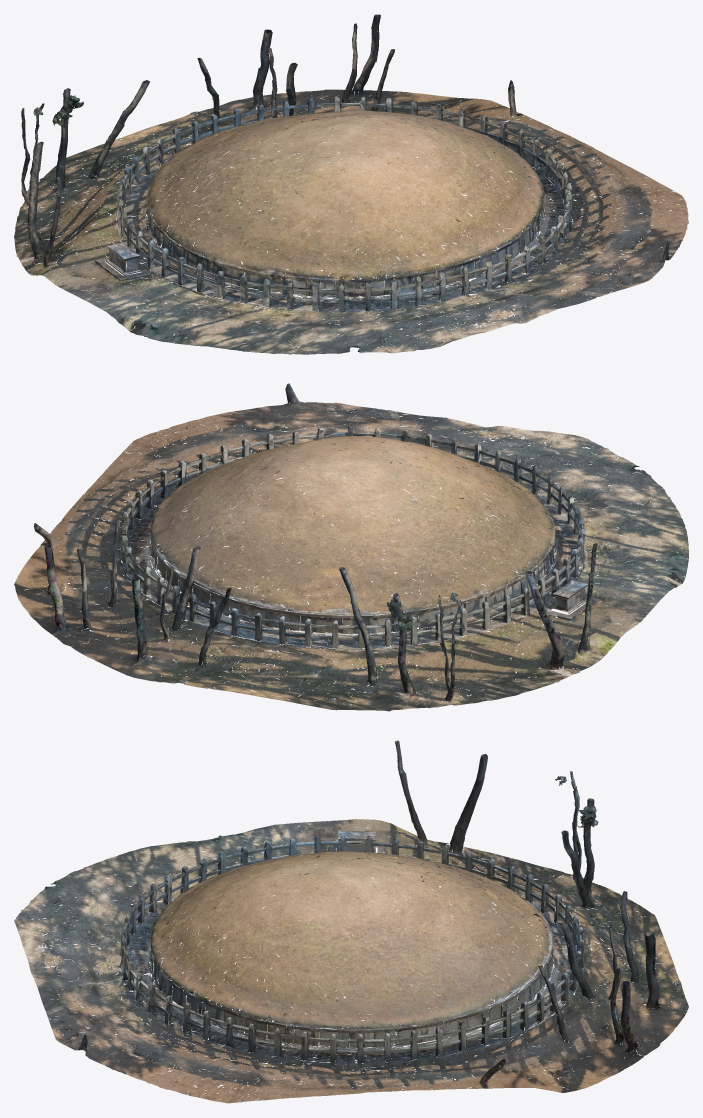
File: heondeok.glb
3 renders of one model, top to bottom at view 1: azimuth 30°, elevation 25°; view 2: azimuth 150°, elevation 25°; view 3: azimuth 270°, elevation 25°, orthographic. The views are drawn at different scales.
Parts seen in each view (by area): view 1: Object_2, Object_3, Object_4; view 2: Object_2, Object_3, Object_4; view 3: Object_2, Object_3, Object_4.
Boxes of the visible parts, x1,y1,x2,y2 form: Object_2: (15,14,688,354); Object_3: (14,14,688,354); Object_4: (15,54,687,348); Object_2: (14,402,688,711); Object_3: (15,383,687,710); Object_4: (44,405,686,708); Object_2: (14,772,688,1103); Object_3: (18,740,687,1102); Object_4: (25,774,675,1095).
Size of the model in its own units: 42.39 by 7.85 by 42.89.
1 material, 1 textured.
